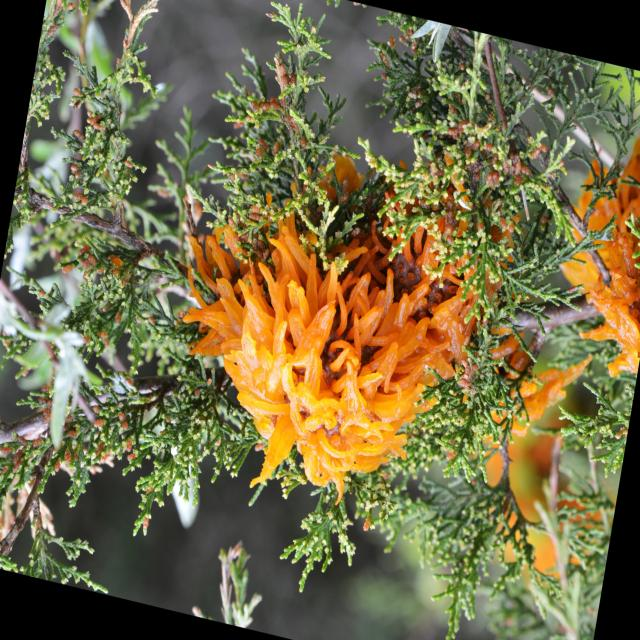Gymnosporangium_Rusts: (176, 165, 486, 496)
